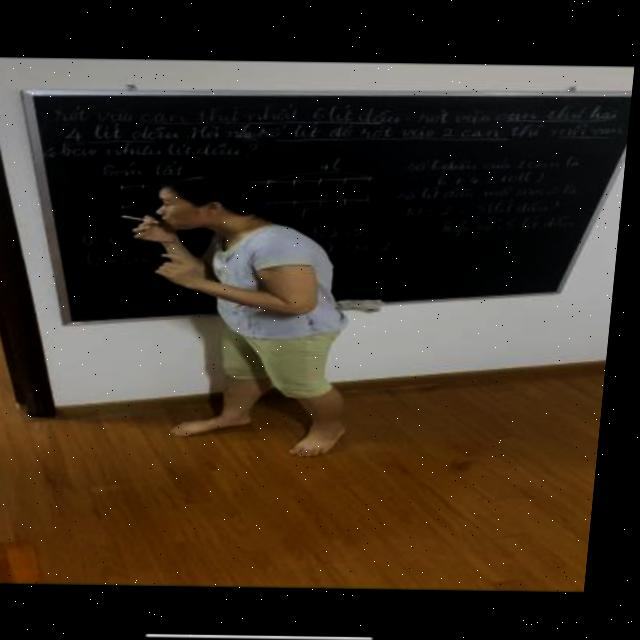cigarette: (122, 214, 165, 226)
